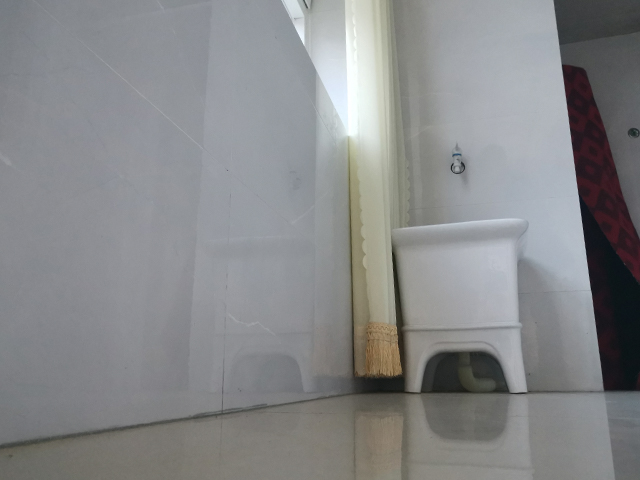curtain: (345, 1, 414, 382)
